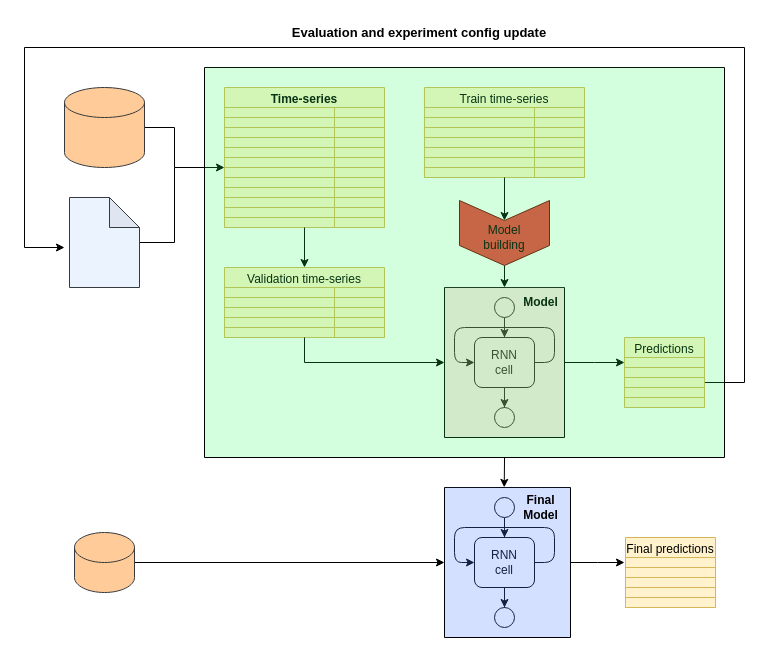
Image size: 770x655. Some labels were removed from this diagram. The centre of each missing label's shape, as x and y in pixels:
"Experiment" goes at [464,262].
"Experiment config" goes at [104,242].
"Test data" goes at [104,562].
"Train data" goes at [104,127].
